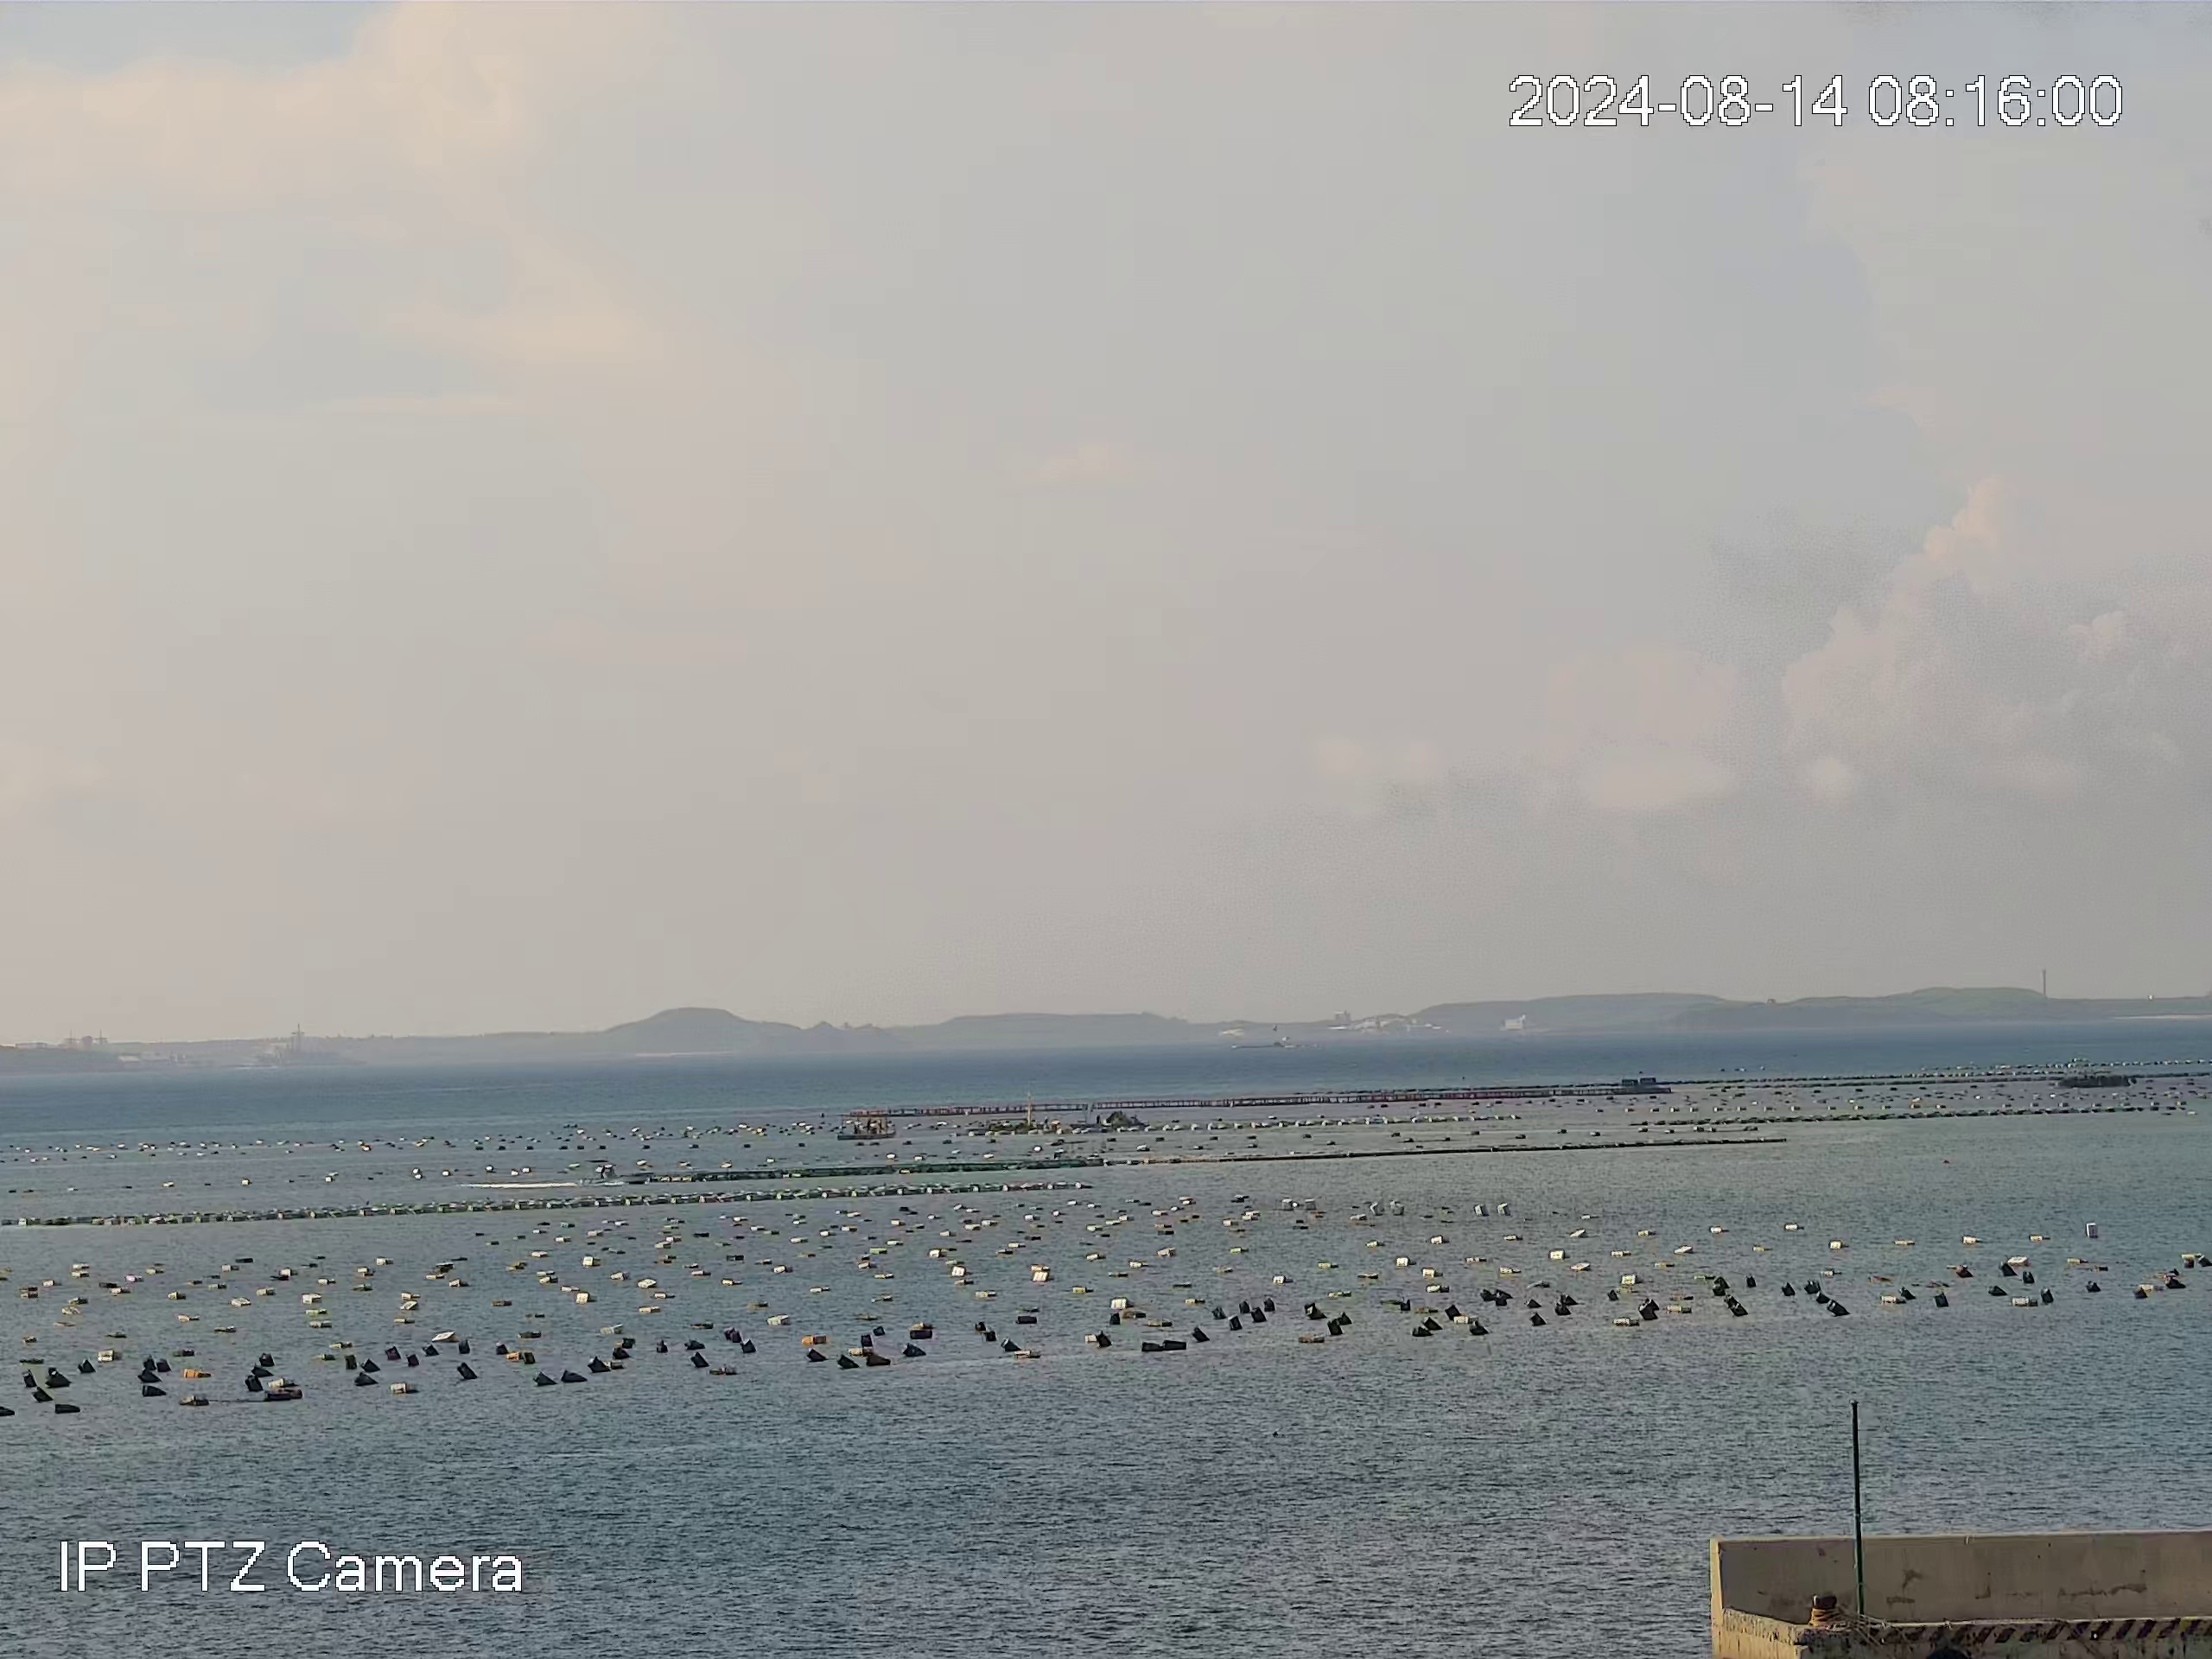boat: (838, 1109, 905, 1139), (2056, 1064, 2133, 1087)
